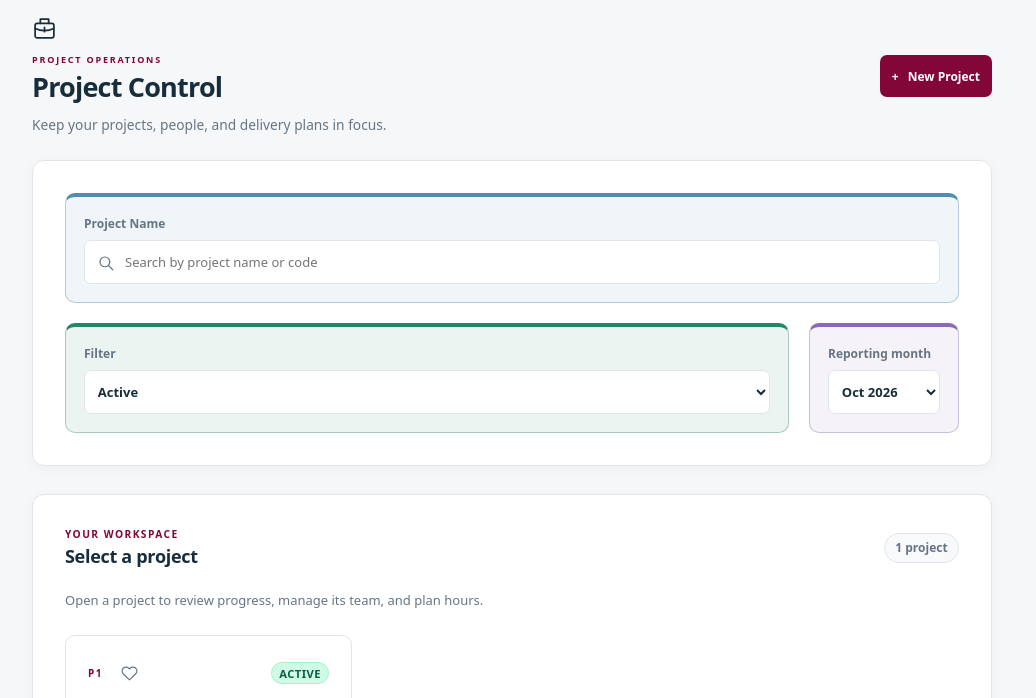
shows editable assigned project hours from the assignment instead of monthly dashboard plans
The image size is (1036, 698).
In the field labelled "Project Name": coordinates (512, 262) [84,240,940,284], type "Atlas"
(page scrolled)
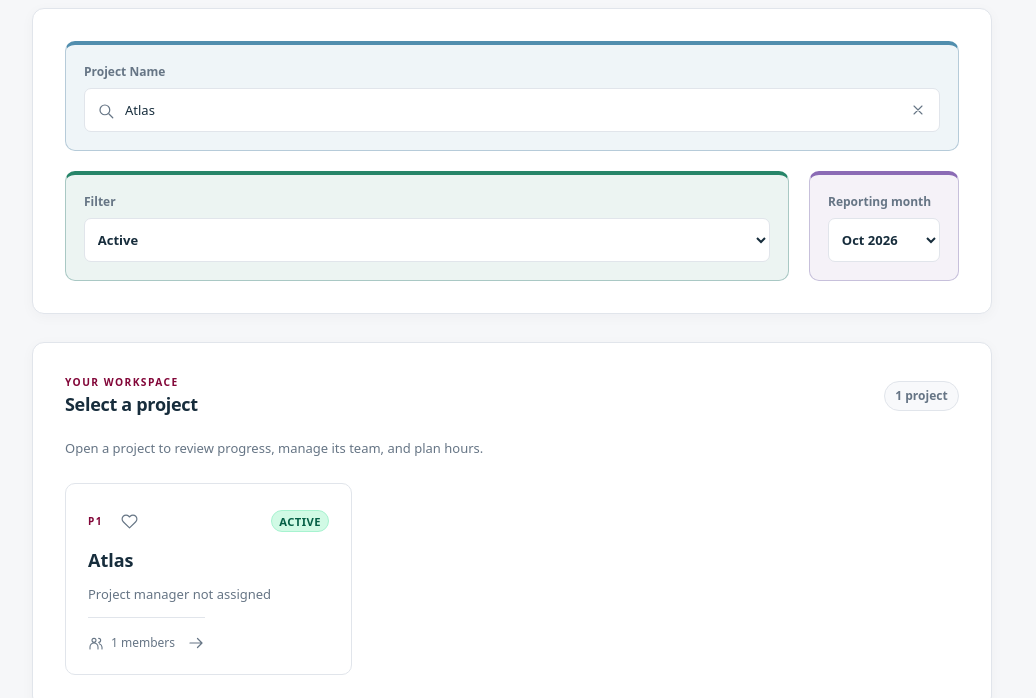
Click the button "Atlas Project manager not assigned 1 members": coordinates (209, 600) [88,548,329,652]
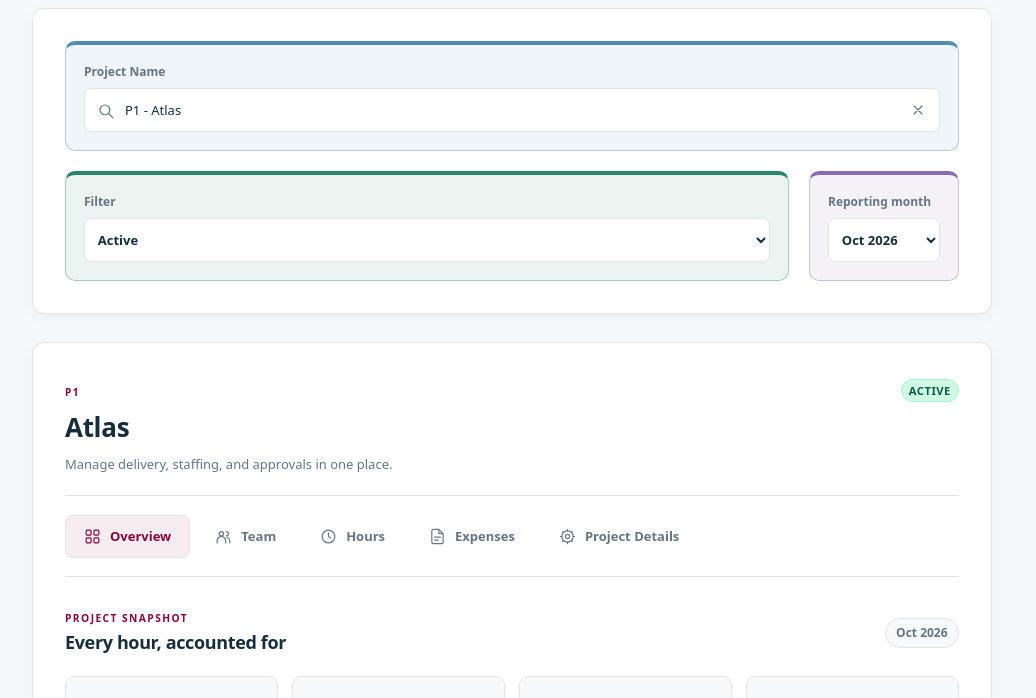
Click the button "Hours": coordinates (353, 536) [301,515,404,558]
(page scrolled)
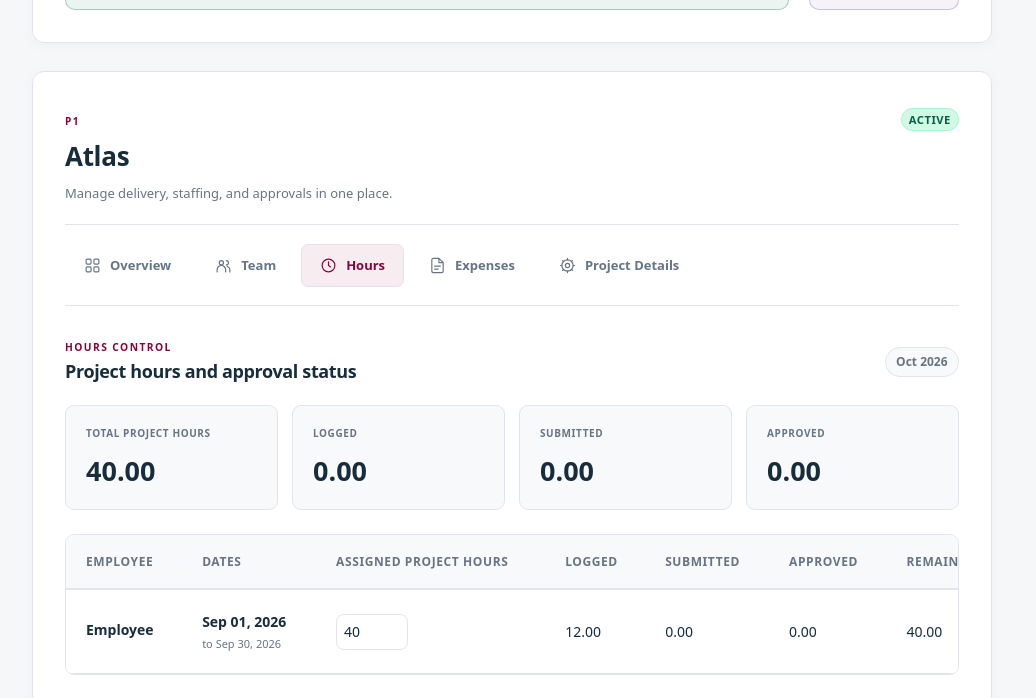
Now the element named "Planned hours for Employee" is enabled, box [65,340,959,675]
Now the number field named "Planned hours for Employee" holds "40", box [336,614,408,650]
Now the text "12.00" is shown, box [545,589,645,674]
